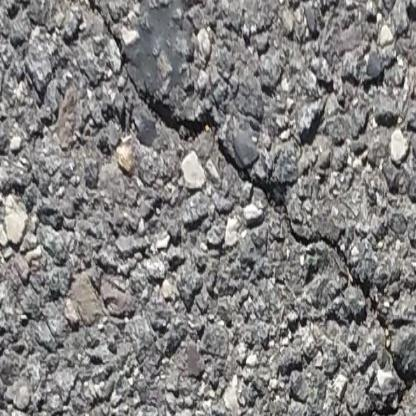Cracks: (22, 0, 376, 304), (345, 360, 416, 416)
